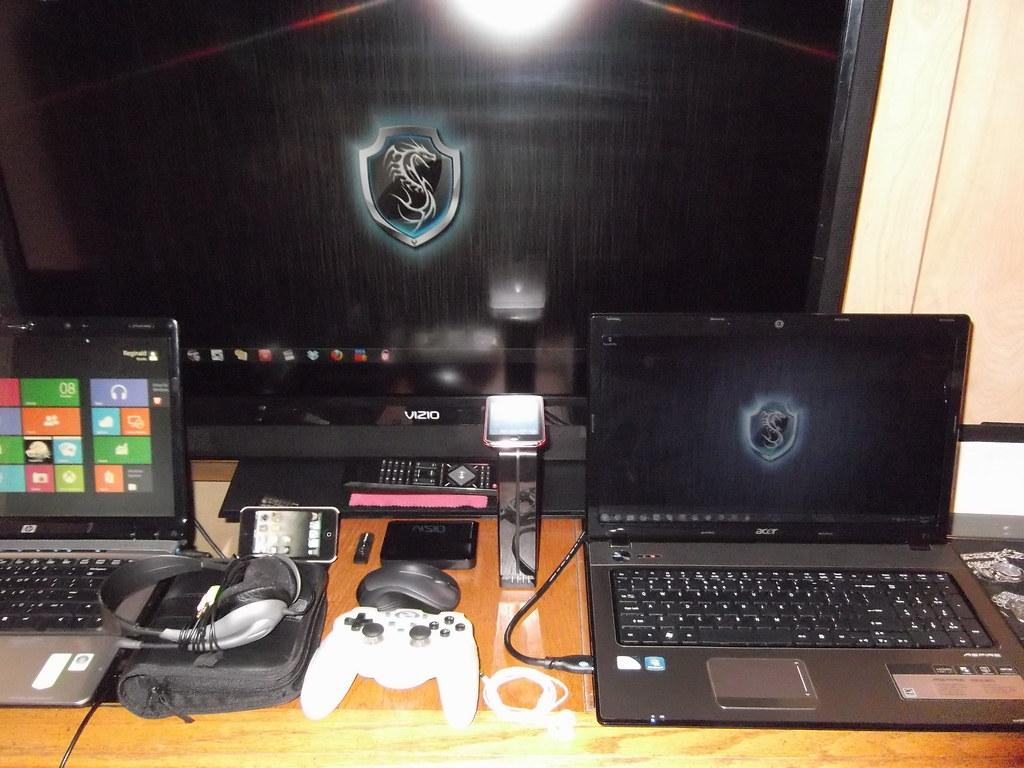computer: (1, 1, 893, 520), (583, 311, 1023, 731), (1, 313, 197, 708)
